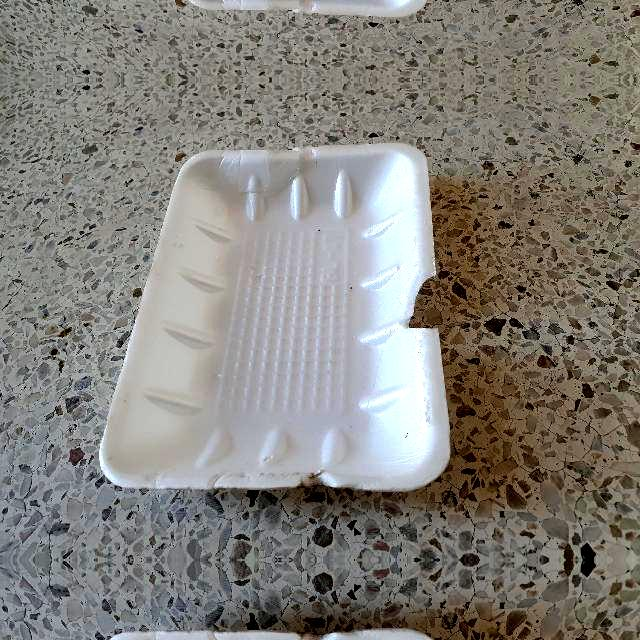Styrofoam: (99, 143, 450, 492), (98, 142, 450, 490)
